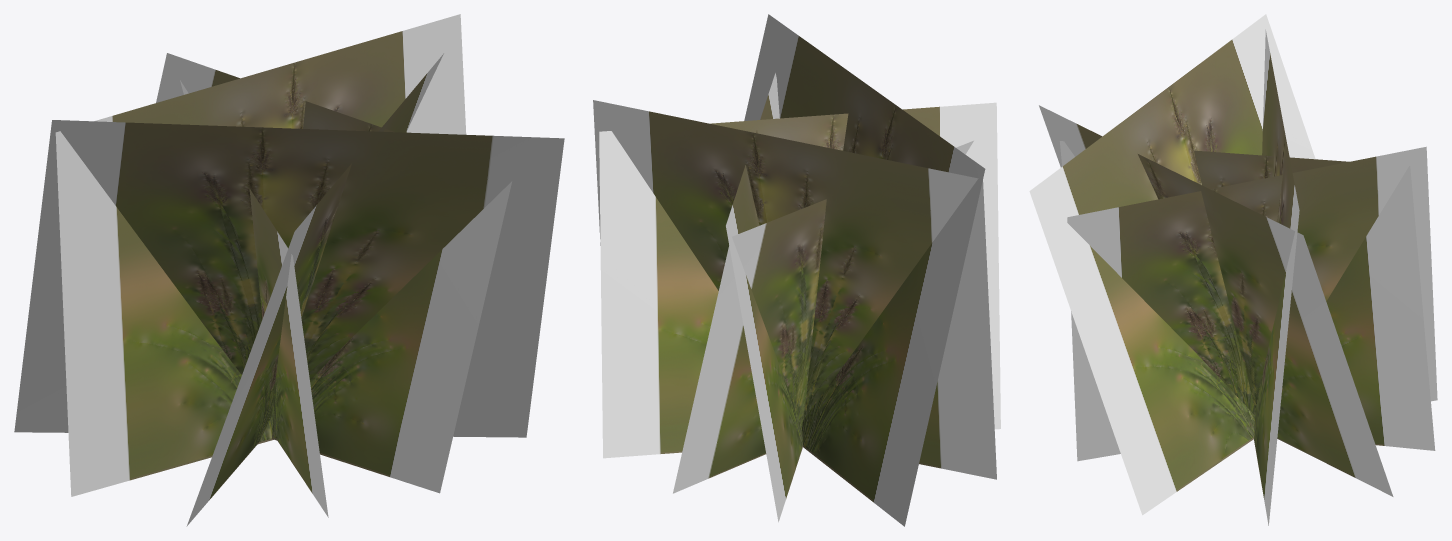
Rendered from Chrysopogon_zizanioides.fbx.
3 renders of one model, left to right at view 1: azimuth 30°, elevation 25°; view 2: azimuth 150°, elevation 25°; view 3: azimuth 270°, elevation 25°, orthographic. The views are drawn at different scales.
Visible parts, largest first — view 1: Chrysopogon_zizanioides; view 2: Chrysopogon_zizanioides; view 3: Chrysopogon_zizanioides.
Part boxes in pixels (<box>): Chrysopogon_zizanioides: <box>14,14,564,526</box>; Chrysopogon_zizanioides: <box>593,14,1000,526</box>; Chrysopogon_zizanioides: <box>1029,14,1437,525</box>.
Size of the model in its own units: 1234 by 1014 by 1146.
Materials: 1 (1 with a texture image).
